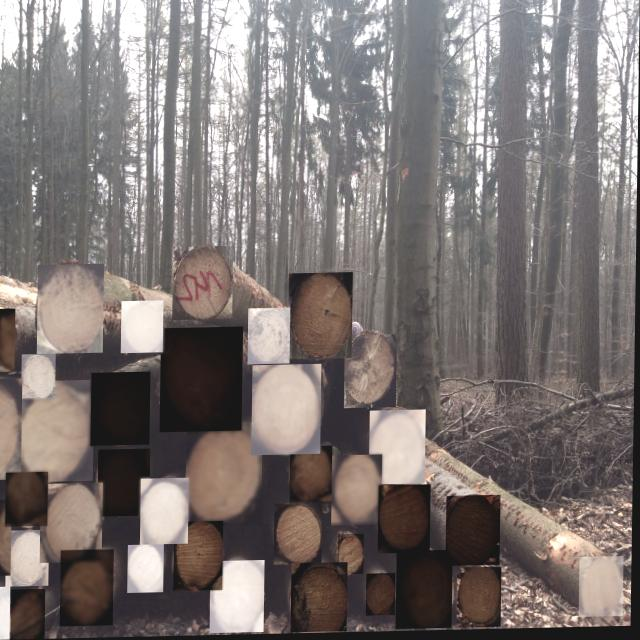wood-log: (161, 328, 244, 433), (187, 423, 264, 528), (22, 380, 96, 483), (253, 365, 323, 456), (38, 264, 105, 354), (289, 274, 354, 361), (41, 483, 104, 563), (173, 247, 234, 321), (92, 372, 152, 446), (398, 552, 454, 631), (370, 411, 427, 486), (62, 550, 116, 627), (212, 561, 266, 634), (346, 336, 399, 410), (293, 564, 349, 634), (447, 498, 502, 569), (379, 486, 432, 555), (333, 457, 384, 528), (99, 449, 152, 517), (175, 522, 225, 592), (142, 479, 190, 545), (275, 504, 324, 566), (581, 559, 626, 620), (459, 570, 503, 630), (7, 530, 51, 587), (291, 448, 334, 506), (0, 379, 24, 480), (249, 309, 291, 366), (7, 473, 49, 527), (122, 301, 164, 354), (130, 545, 166, 594), (13, 589, 47, 640), (22, 354, 57, 399), (368, 575, 397, 618), (339, 535, 366, 576), (0, 309, 16, 372), (0, 500, 13, 576), (0, 587, 12, 640)
